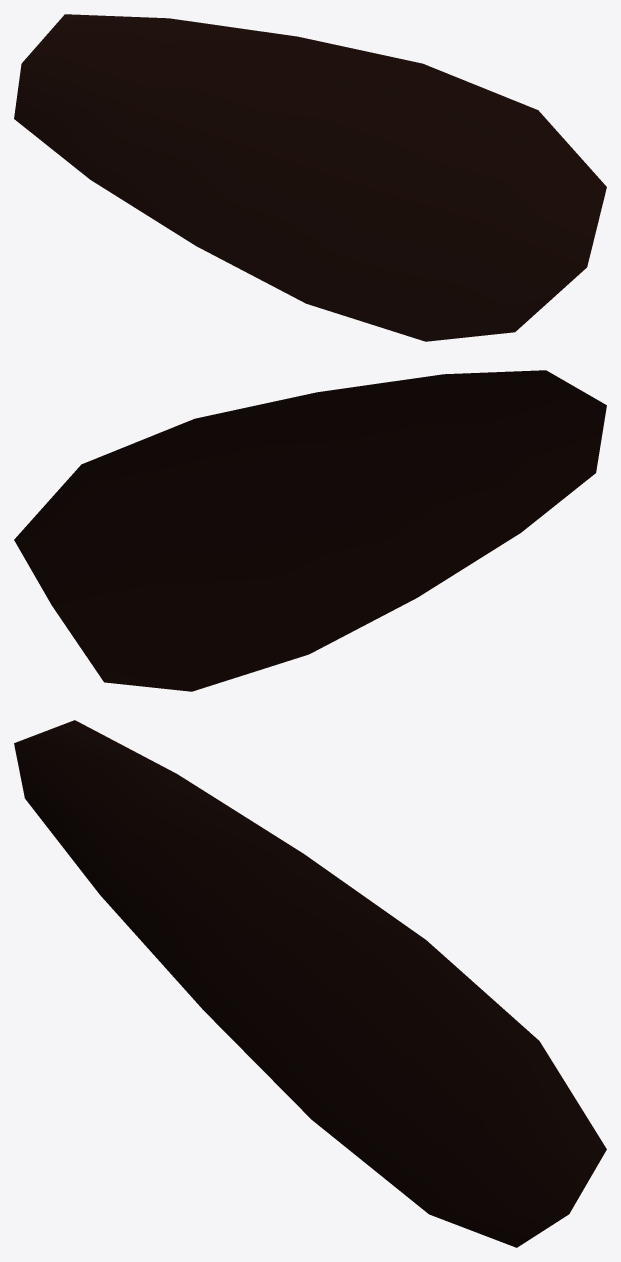
The model's file is finch_feather_flight_secondary_015.obj.
The picture shows the model from 3 angles, top to bottom: view 1: azimuth 30°, elevation 25°; view 2: azimuth 150°, elevation 25°; view 3: azimuth 330°, elevation 25°; orthographic projection.
Parts seen in each view (by area): view 1: feather_flight_secondary_015; view 2: feather_flight_secondary_015; view 3: feather_flight_secondary_015.
Part boxes in pixels (x1=…): feather_flight_secondary_015: x1=14, y1=14, x2=606, y2=341; feather_flight_secondary_015: x1=14, y1=370, x2=606, y2=691; feather_flight_secondary_015: x1=14, y1=720, x2=606, y2=1247.
Bounding box in the file's own units: 0.0124 × 0.00854 × 0.000337.
